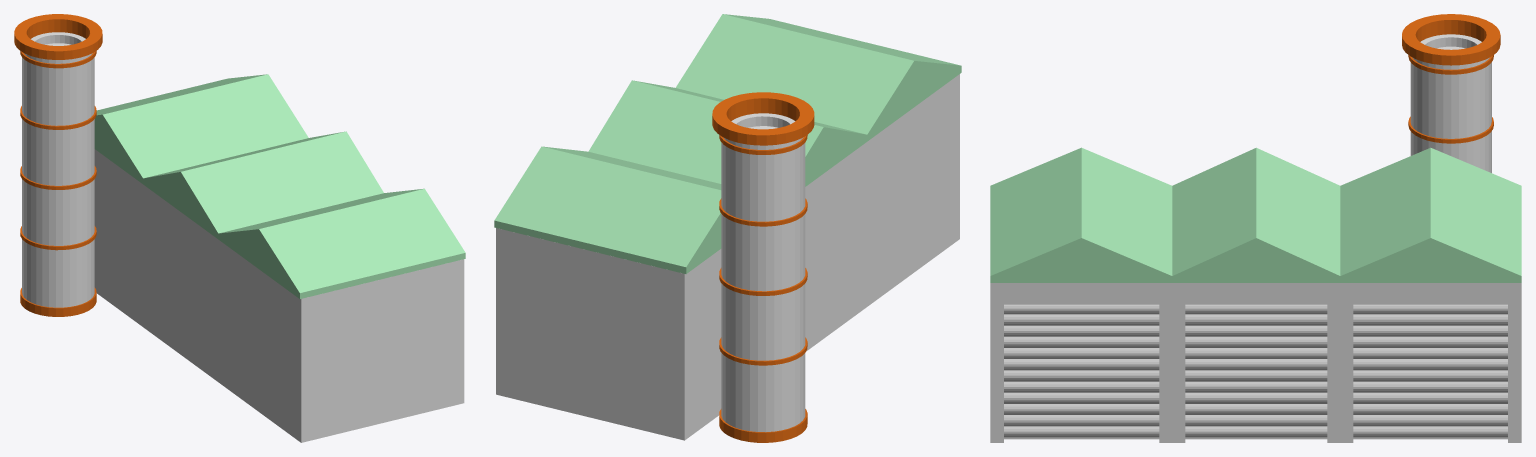
Rendered from SimpleIndustrialBuilding1.fbx.
3 views of the same model, side by side, from view 1: azimuth 30°, elevation 25°; view 2: azimuth 150°, elevation 25°; view 3: azimuth 270°, elevation 25° (orthographic). The views are drawn at different scales.
Visible parts, largest first — view 1: Building1Base, Building1Roof, Cylinder; view 2: Building1Base, Building1Roof, Cylinder; view 3: Building1Roof, Building1Doors, Building1Base, Cylinder.
Part boxes in pixels (left/top/right/bottom): Building1Base: left=94, top=149, right=464, bottom=442; Building1Roof: left=94, top=74, right=465, bottom=298; Cylinder: left=14, top=14, right=102, bottom=316; Building1Base: left=496, top=74, right=959, bottom=440; Building1Roof: left=494, top=14, right=961, bottom=273; Cylinder: left=712, top=92, right=814, bottom=442; Building1Roof: left=990, top=147, right=1521, bottom=282; Building1Doors: left=1004, top=304, right=1507, bottom=437; Building1Base: left=990, top=283, right=1521, bottom=442; Cylinder: left=1402, top=14, right=1500, bottom=172.
Size of the model in its own units: 2771 by 2971 by 4778.
